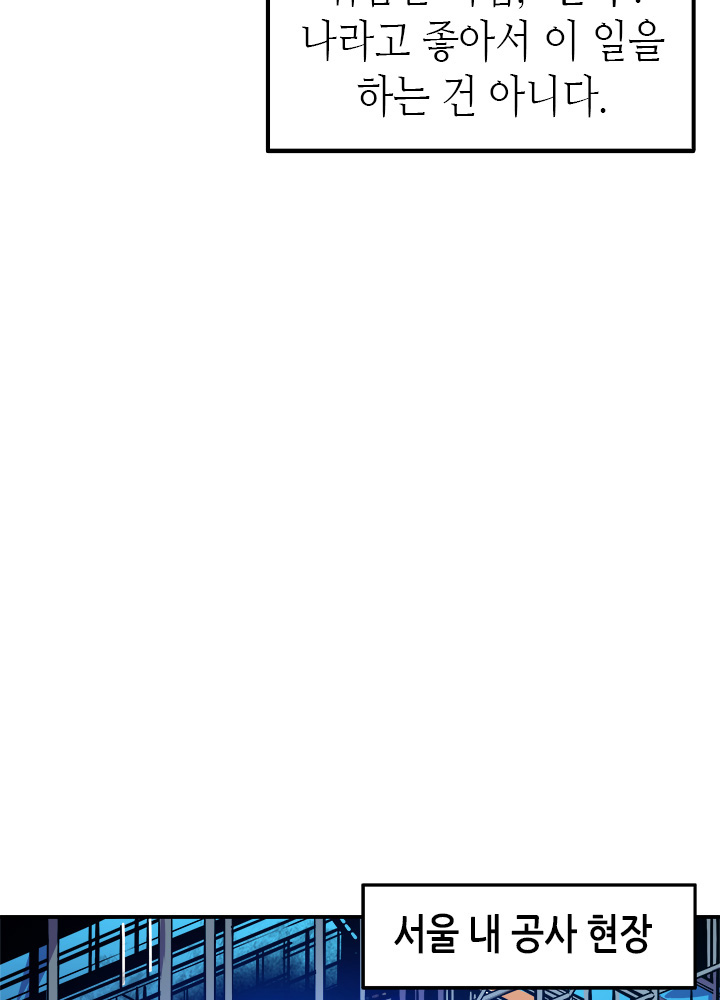dialog box: (240, 1, 717, 182), (334, 847, 720, 999)
text: (294, 1, 679, 134), (384, 898, 667, 976)
